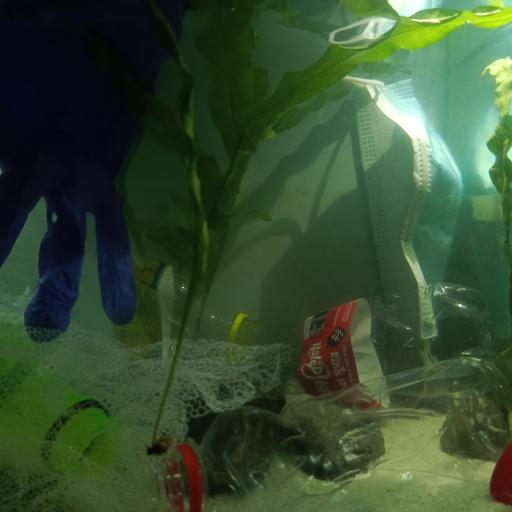bottle_cap: (488, 436, 512, 508)
glove: (1, 0, 193, 340)
mask: (356, 76, 463, 346)
net: (0, 284, 297, 512)
plastic_bottle: (149, 357, 511, 512), (262, 282, 497, 412), (0, 319, 119, 480), (87, 256, 258, 364)
